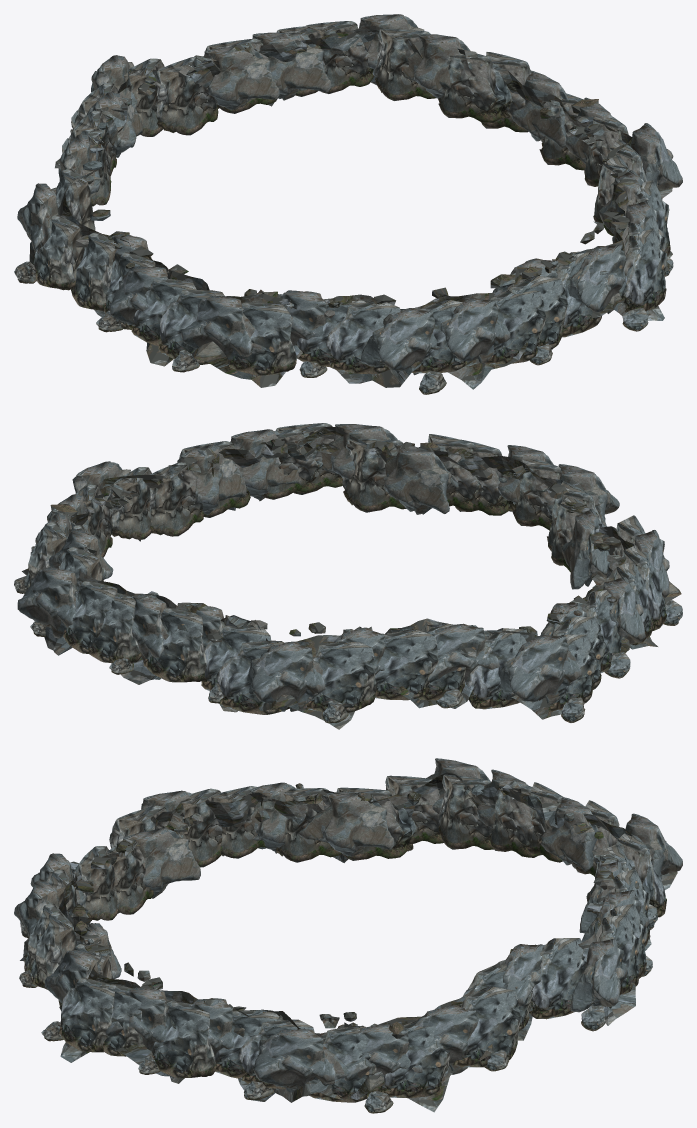
File: ValoriaRockAndGroundV3-CLIFF.glb
The picture shows the model from 3 angles, top to bottom: view 1: azimuth 30°, elevation 25°; view 2: azimuth 150°, elevation 25°; view 3: azimuth 270°, elevation 25°; orthographic projection.
Visible parts, largest first — view 1: Buried continuous cliff contact receiver - existing geometry, CC0 directed cliff course 05, CC0 cluster directed cliff course 36, CC0 directed cliff course 14, CC0 cluster directed cliff course 31, CC0 directed cliff course 32, CC0 cluster directed cliff course 13, CC0 cluster directed cliff course 38, CC0 directed cliff course 44, CC0 directed cliff course 35, CC0 directed cliff course 39, CC0 cluster directed cliff course 43 (+38 smaller); view 2: Buried continuous cliff contact receiver - existing geometry, CC0 cluster directed cliff course 23, CC0 cluster directed cliff course 16, CC0 directed cliff course 17, CC0 cluster directed cliff course 41, CC0 directed cliff course 19, CC0 directed cliff course 12, CC0 directed cliff course 49, CC0 cluster directed cliff course 08, CC0 directed cliff course 42, CC0 directed cliff course 22, CC0 directed cliff course 15 (+39 smaller); view 3: Buried continuous cliff contact receiver - existing geometry, CC0 cluster directed cliff course 51, CC0 cluster directed cliff course 26, CC0 directed cliff course 47, CC0 directed cliff course 04, CC0 directed cliff course 07, CC0 directed cliff course 44, CC0 directed cliff course 02, CC0 cluster directed cliff course 33, CC0 directed cliff course 22, CC0 cluster directed cliff course 08, CC0 cluster directed cliff course 18 (+39 smaller).
Boxes of the visible parts, x1,y1,x2,y2 form: Buried continuous cliff contact receiver - existing geometry: [29, 26, 672, 389]; CC0 directed cliff course 05: [438, 53, 511, 122]; CC0 cluster directed cliff course 36: [361, 308, 440, 375]; CC0 directed cliff course 14: [154, 57, 218, 135]; CC0 cluster directed cliff course 31: [181, 295, 266, 364]; CC0 directed cliff course 32: [229, 302, 296, 375]; CC0 cluster directed cliff course 13: [203, 47, 279, 110]; CC0 cluster directed cliff course 38: [440, 297, 510, 364]; CC0 directed cliff course 44: [619, 229, 667, 312]; CC0 directed cliff course 35: [325, 301, 400, 374]; CC0 directed cliff course 39: [485, 289, 545, 364]; CC0 cluster directed cliff course 43: [567, 244, 626, 313]; Buried continuous cliff contact receiver - existing geometry: [22, 427, 681, 729]; CC0 cluster directed cliff course 23: [499, 635, 582, 704]; CC0 cluster directed cliff course 16: [247, 641, 325, 711]; CC0 directed cliff course 17: [307, 641, 376, 712]; CC0 cluster directed cliff course 41: [384, 443, 458, 514]; CC0 directed cliff course 19: [375, 629, 438, 700]; CC0 directed cliff course 12: [143, 607, 206, 682]; CC0 directed cliff course 49: [149, 462, 203, 536]; CC0 cluster directed cliff course 08: [17, 567, 77, 638]; CC0 directed cliff course 42: [342, 439, 406, 512]; CC0 directed cliff course 22: [466, 628, 527, 709]; CC0 directed cliff course 15: [216, 640, 289, 714]; Buried continuous cliff contact receiver - existing geometry: [20, 772, 677, 1112]; CC0 cluster directed cliff course 51: [253, 1029, 351, 1096]; CC0 cluster directed cliff course 26: [298, 792, 394, 856]; CC0 directed cliff course 47: [152, 1001, 216, 1078]; CC0 directed cliff course 04: [453, 986, 520, 1067]; CC0 directed cliff course 07: [529, 938, 586, 1019]; CC0 directed cliff course 44: [59, 977, 114, 1052]; CC0 directed cliff course 02: [379, 1021, 450, 1098]; CC0 cluster directed cliff course 33: [123, 828, 200, 898]; CC0 directed cliff course 22: [438, 774, 493, 849]; CC0 cluster directed cliff course 08: [570, 938, 627, 1012]; CC0 cluster directed cliff course 18: [541, 797, 598, 871].
Size of the model in its own units: 91.15 by 17.49 by 89.65.
Materials: 2 (2 with a texture image).
